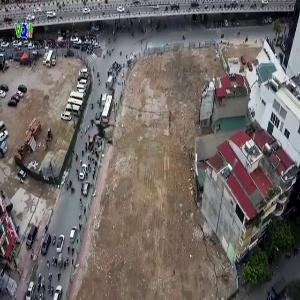drone: (71, 100, 135, 164)
